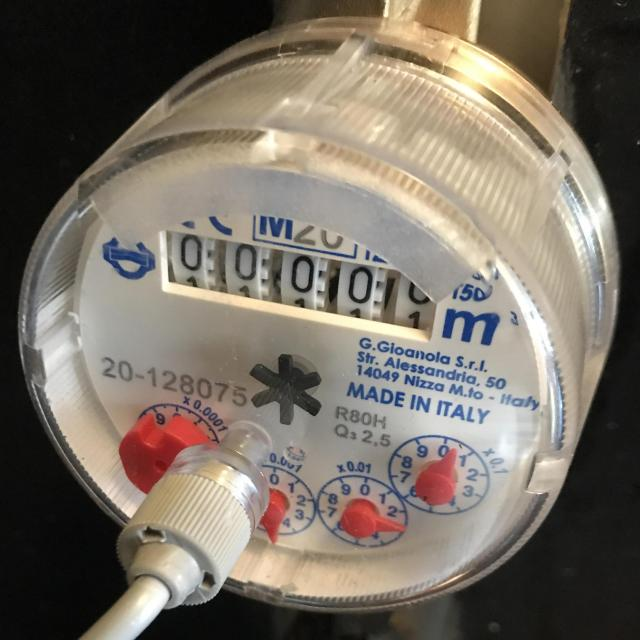gaz_meter: (28, 144, 551, 601)
indication: (165, 231, 443, 331)
